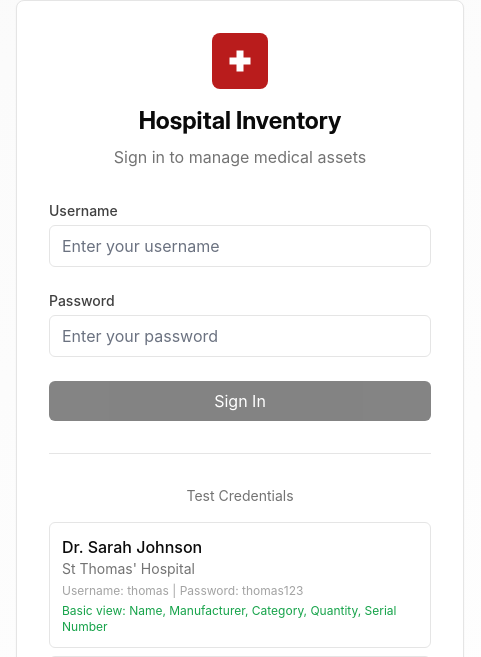
it: LoginView Component › Form Validation › should enable submit button when form is filled
Type "thomas" into the field with test id "username" at coordinates (240, 246), box [49,225,431,267]
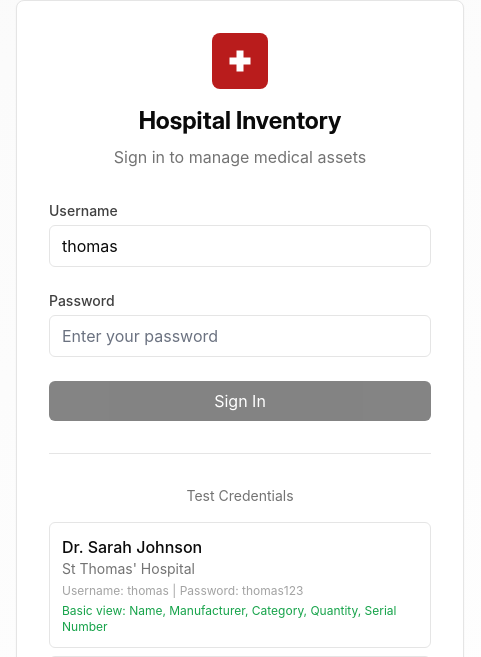
Type "thomas123" into the password field with test id "password" at coordinates (240, 336), box [49,315,431,357]
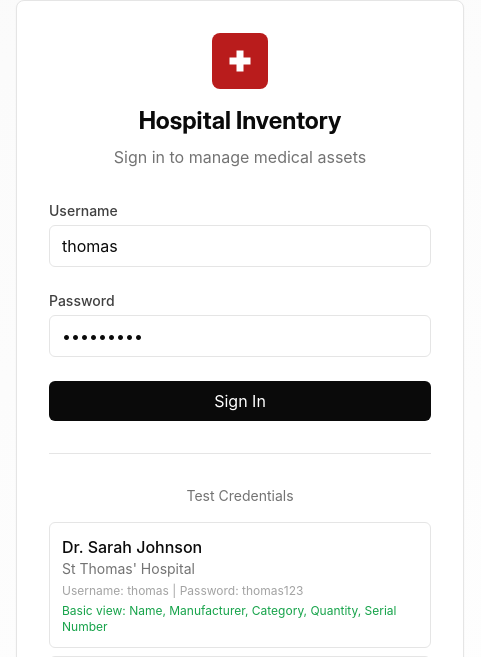
Now the button with test id "login-btn" is enabled, box [49,381,431,421]
